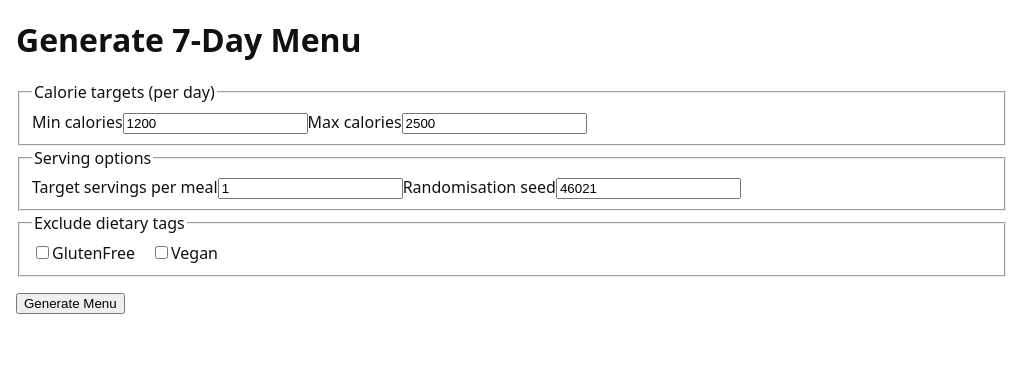
Test: ConstraintForm › shows API error message on generate failure
Click the button "Generate Menu": (70, 303) [16,293,125,314]
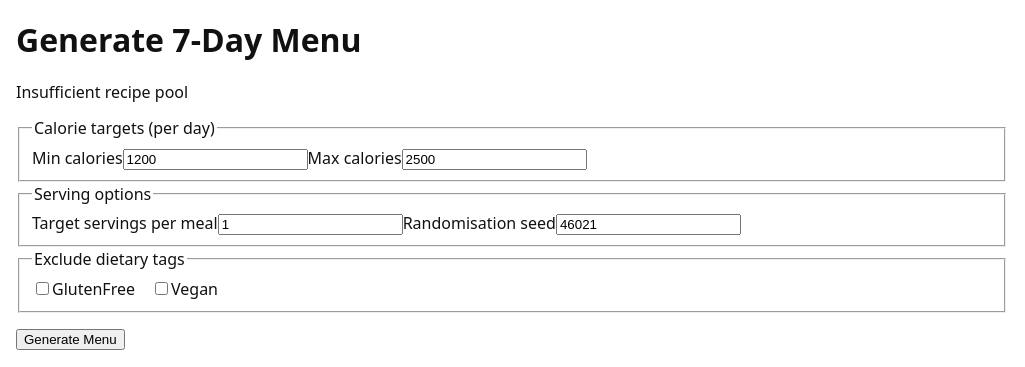
Expected: the message reads "Insufficient recipe pool", [16,81,188,103]
